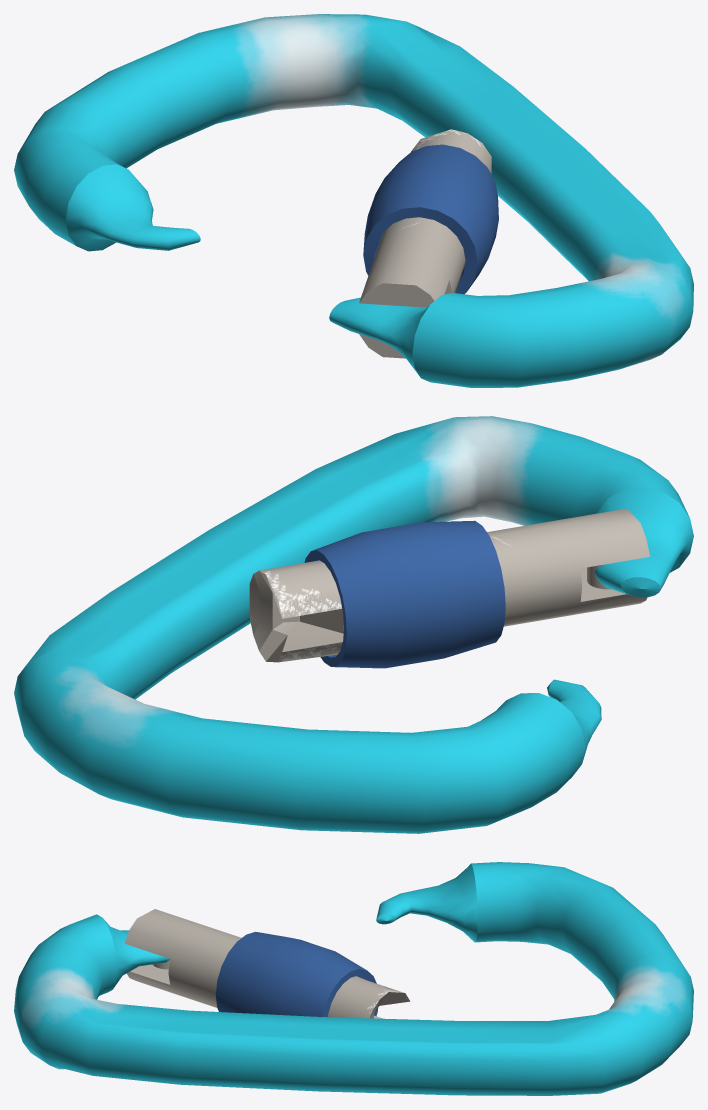
Rendered from Mousketon.glb.
3 renders of one model, top to bottom at view 1: azimuth 30°, elevation 25°; view 2: azimuth 150°, elevation 25°; view 3: azimuth 270°, elevation 25°, orthographic. The views are drawn at different scales.
Visible parts, largest first — view 1: Object_4, Object_2; view 2: Object_4, Object_2; view 3: Object_4, Object_2.
Boxes of the visible parts, left/top/right/bottom form: Object_4: left=14, top=14, right=693, bottom=387; Object_2: left=359, top=129, right=498, bottom=358; Object_4: left=14, top=416, right=693, bottom=833; Object_2: left=249, top=508, right=649, bottom=668; Object_4: left=14, top=862, right=693, bottom=1095; Object_2: left=124, top=909, right=410, bottom=1018.
Size of the model in its own units: 0.1013 by 0.0245 by 0.1526.
3 materials, 3 textured.
